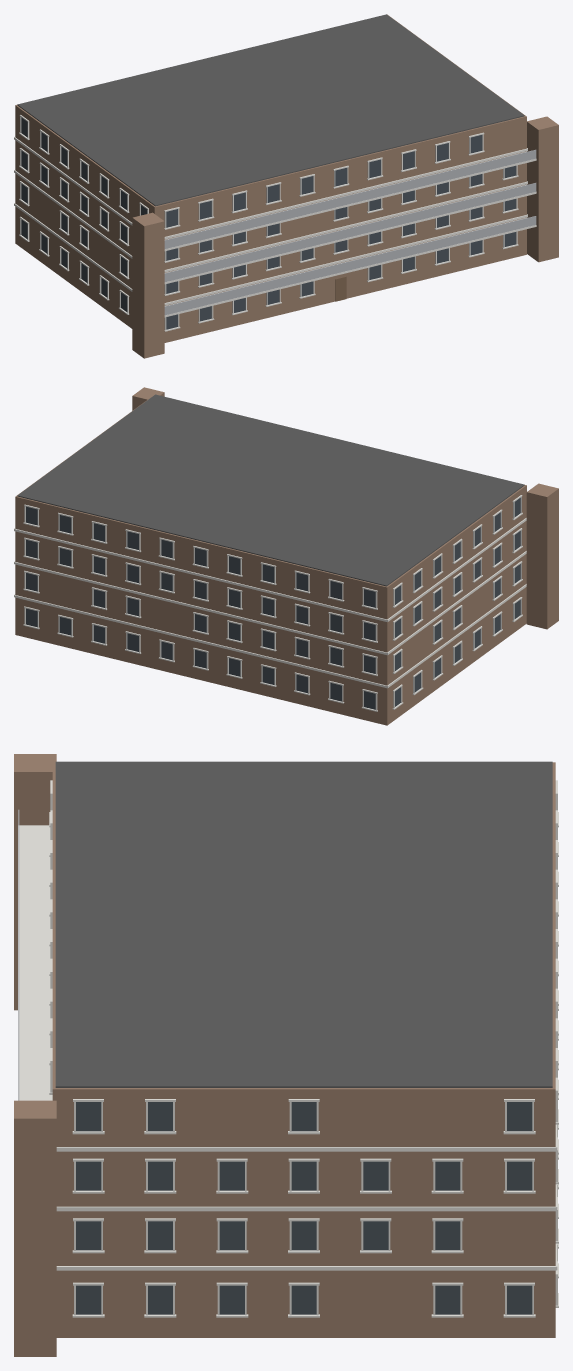
The model's file is SM_Apartment_4F_A.fbx.
The picture shows the model from 3 angles, top to bottom: view 1: azimuth 30°, elevation 25°; view 2: azimuth 150°, elevation 25°; view 3: azimuth 270°, elevation 25°; orthographic projection. The views are drawn at different scales.
Parts seen in each view (by area): view 1: SM_Apartment_4F_A_LOD0; view 2: SM_Apartment_4F_A_LOD0; view 3: SM_Apartment_4F_A_LOD0.
Boxes of the visible parts, box(x1,y1,x2,y2) form: SM_Apartment_4F_A_LOD0: box(14, 14, 558, 358); SM_Apartment_4F_A_LOD0: box(14, 387, 558, 725); SM_Apartment_4F_A_LOD0: box(14, 754, 558, 1356).
Size of what is drawn, in the model's own units: 44.6 by 14.3 by 28.18.
